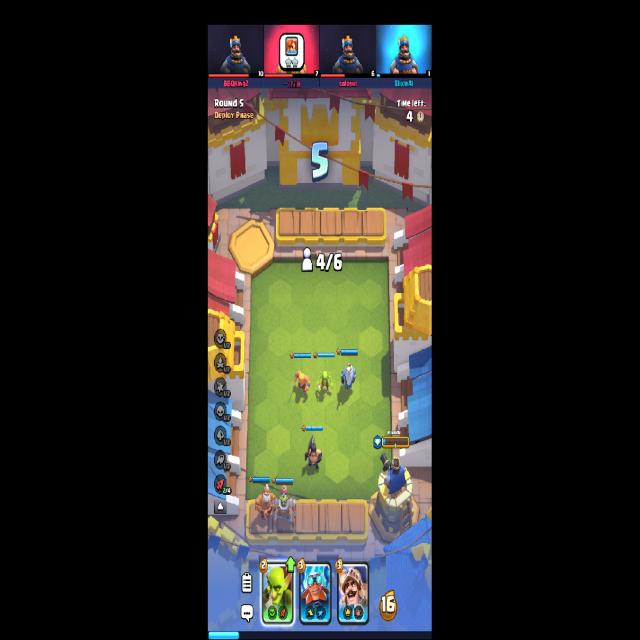barbarian: (287, 370, 309, 396)
card_electro_giant: (299, 560, 331, 625)
card_goblin: (261, 560, 294, 626)
card_prince: (337, 562, 369, 626)
executioner: (304, 435, 322, 470)
goblin: (316, 370, 334, 395)
goblin_machine: (272, 485, 297, 524)
monk: (256, 484, 278, 519)
royal_ghost: (340, 362, 356, 392)
